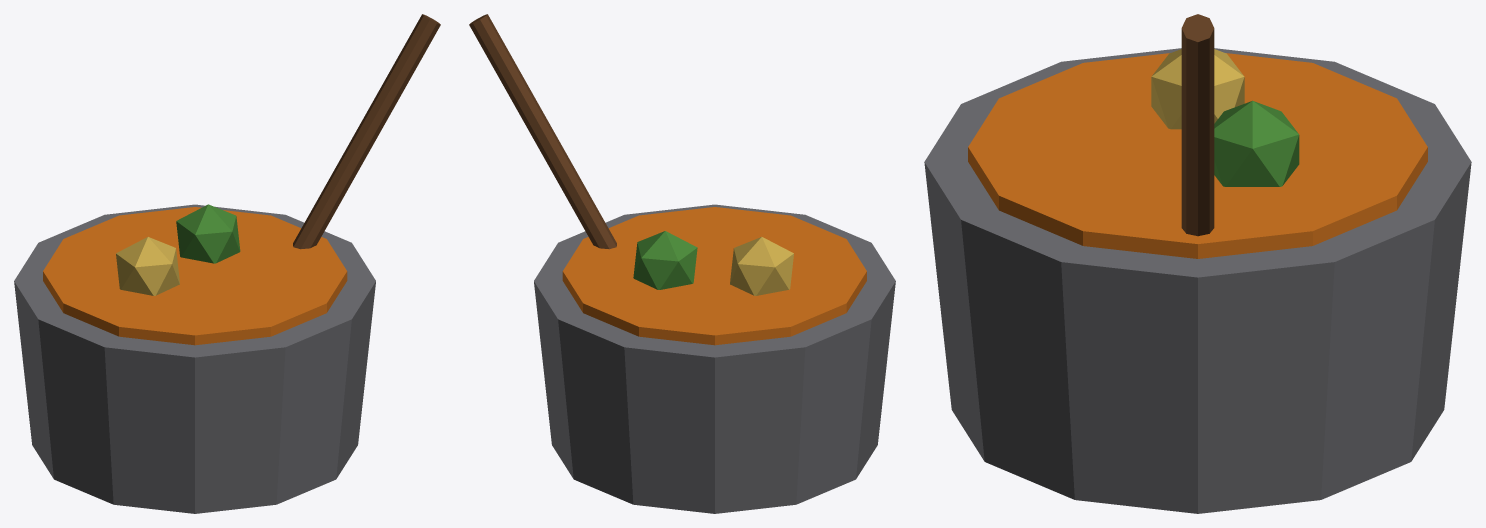
File: SM_GZ_tool_pot.fbx
3 renders of one model, left to right at view 1: azimuth 30°, elevation 25°; view 2: azimuth 150°, elevation 25°; view 3: azimuth 270°, elevation 25°, orthographic. The views are drawn at different scales.
Visible parts, largest first — view 1: SM_GZ_tool_pot; view 2: SM_GZ_tool_pot; view 3: SM_GZ_tool_pot.
Part boxes in pixels (bbox=[...]): SM_GZ_tool_pot: bbox=[14, 14, 440, 513]; SM_GZ_tool_pot: bbox=[469, 14, 895, 513]; SM_GZ_tool_pot: bbox=[924, 14, 1471, 513].
Size of the model in its own units: 128 by 114 by 100.
